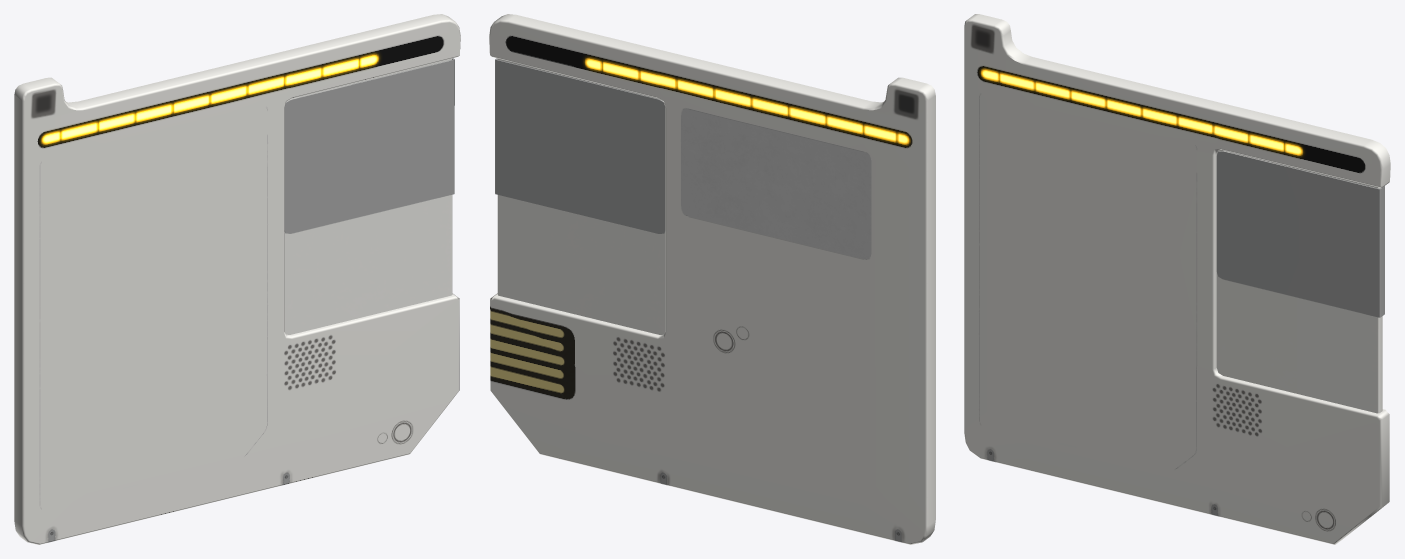
Rendered from Disc02_Platinum_notext5.glb.
3 renders of one model, left to right at view 1: azimuth 30°, elevation 25°; view 2: azimuth 150°, elevation 25°; view 3: azimuth 330°, elevation 25°, orthographic. The views are drawn at different scales.
Parts seen in each view (by area): view 1: Disk_003; view 2: Disk_003; view 3: Disk_003.
Boxes of the visible parts, x1,y1,x2,y2 form: Disk_003: [14, 14, 460, 544]; Disk_003: [489, 14, 935, 544]; Disk_003: [964, 14, 1390, 544].
Bounding box in the file's own units: 1.02 × 1.02 × 0.0401.
1 material, 1 textured.
